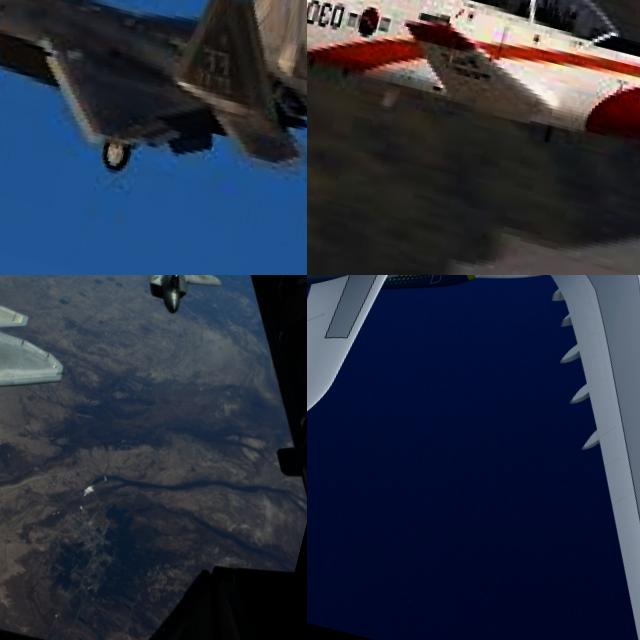A380: (307, 275, 640, 640)
F22: (0, 0, 307, 229), (0, 275, 97, 595), (89, 275, 230, 331)
KT-1: (307, 0, 640, 198)
